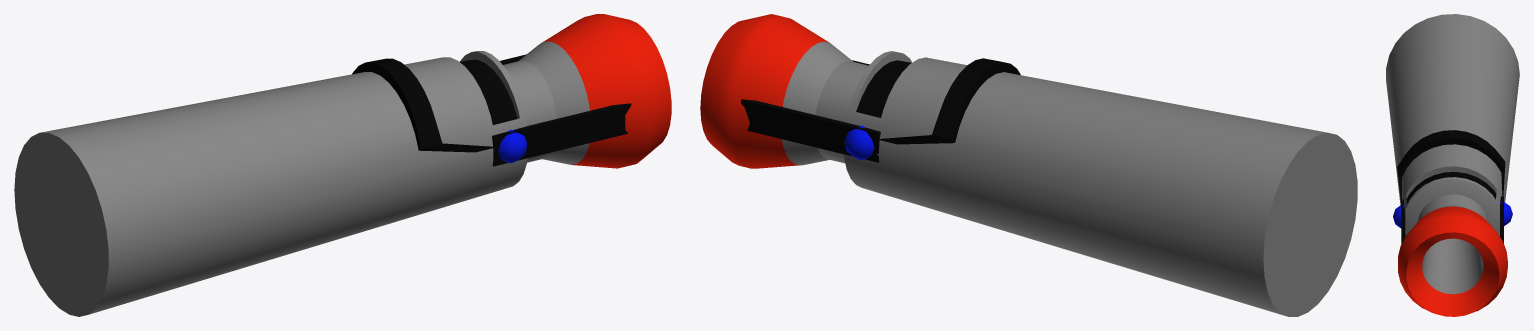
The model's file is MarioGun.fbx.
3 renders of one model, left to right at view 1: azimuth 30°, elevation 25°; view 2: azimuth 150°, elevation 25°; view 3: azimuth 270°, elevation 25°, orthographic. The views are drawn at different scales.
Parts seen in each view (by area): view 1: Cylinder; view 2: Cylinder; view 3: Cylinder.
Boxes of the visible parts, box(x1,y1,x2,y2) form: Cylinder: box(14, 14, 671, 316); Cylinder: box(700, 14, 1357, 316); Cylinder: box(1386, 14, 1519, 316).
Bounding box in the file's own units: 705 × 200 × 199.
